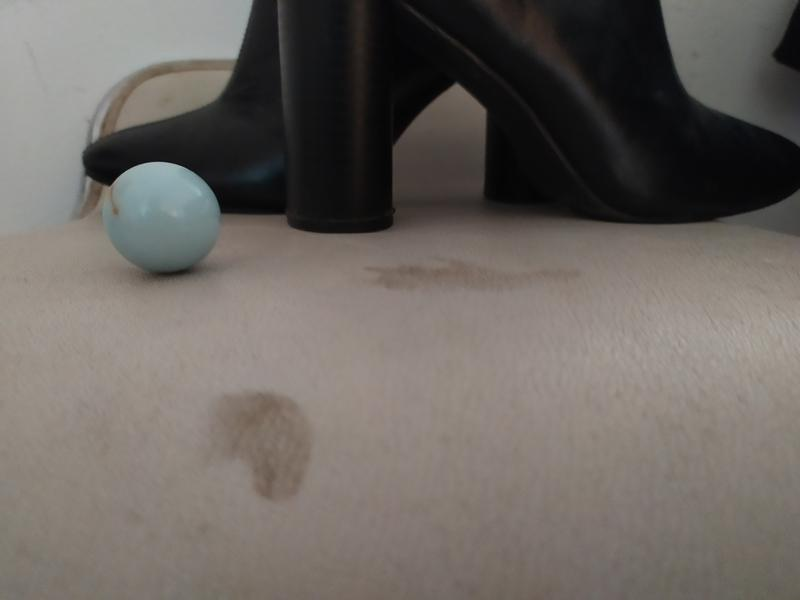Warning: (100, 159, 224, 276)
